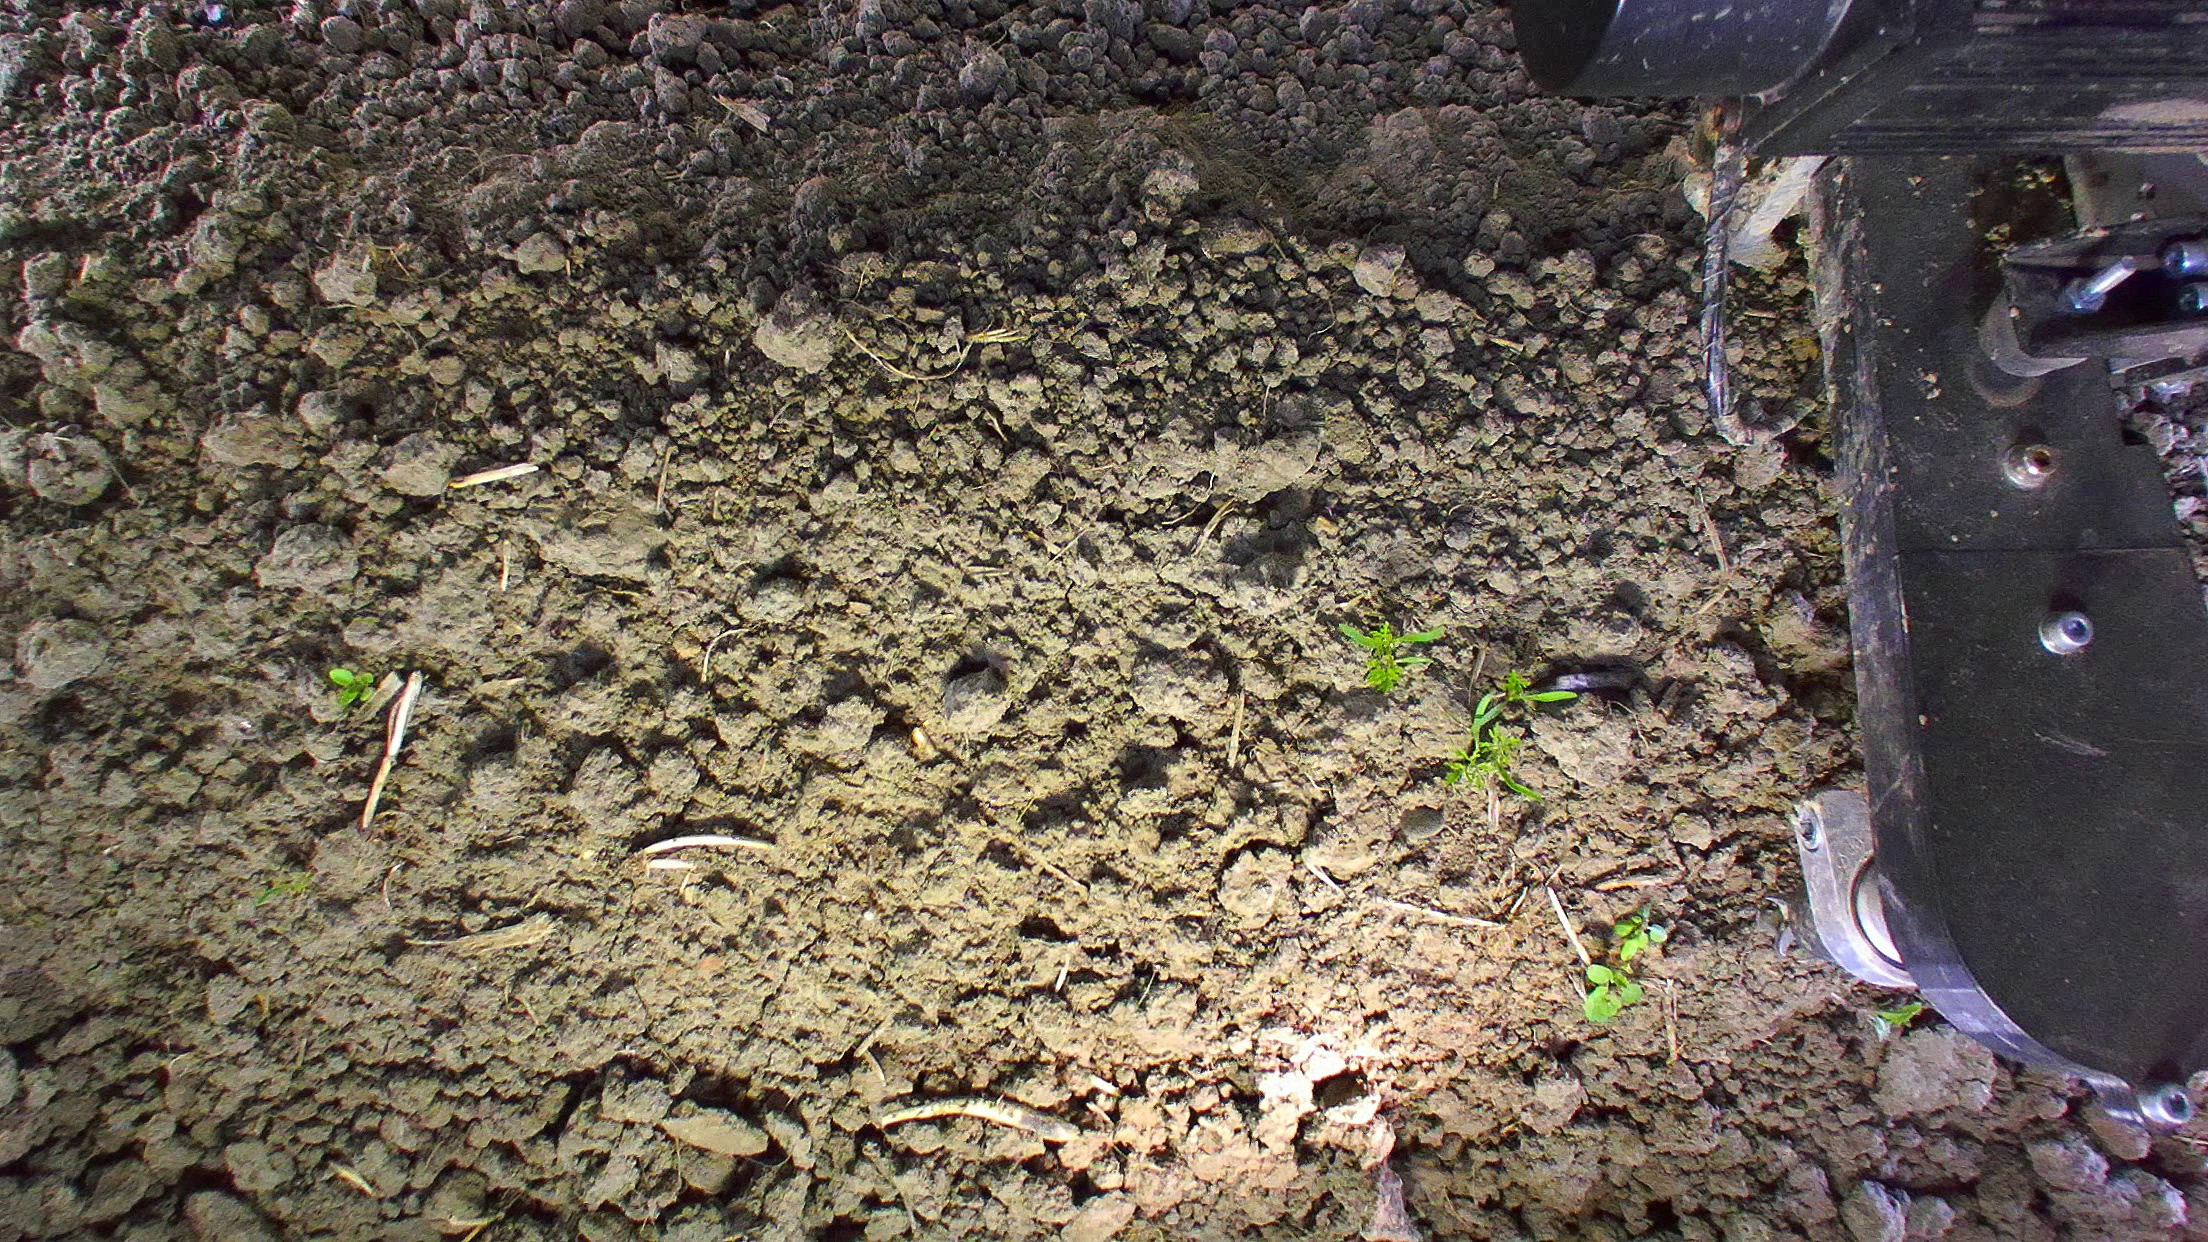Crop: (1441, 667, 1582, 805), (1335, 619, 1447, 695)
Weed: (1580, 904, 1659, 1027), (317, 664, 378, 711)
